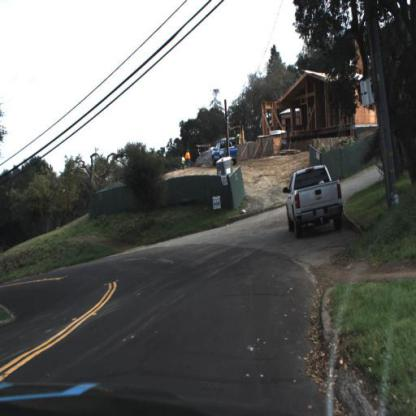car: (282, 163, 346, 238), (211, 137, 240, 175), (212, 134, 242, 169)
pedestrian: (185, 146, 193, 168), (179, 152, 187, 173), (181, 154, 187, 170)
